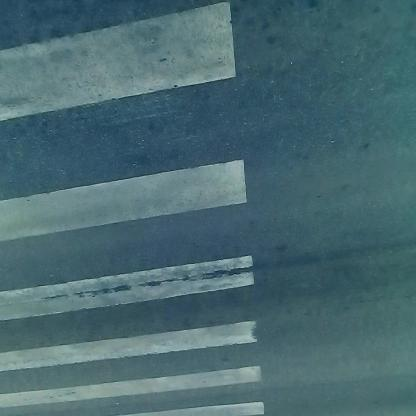crosswalk: (6, 9, 274, 415)
